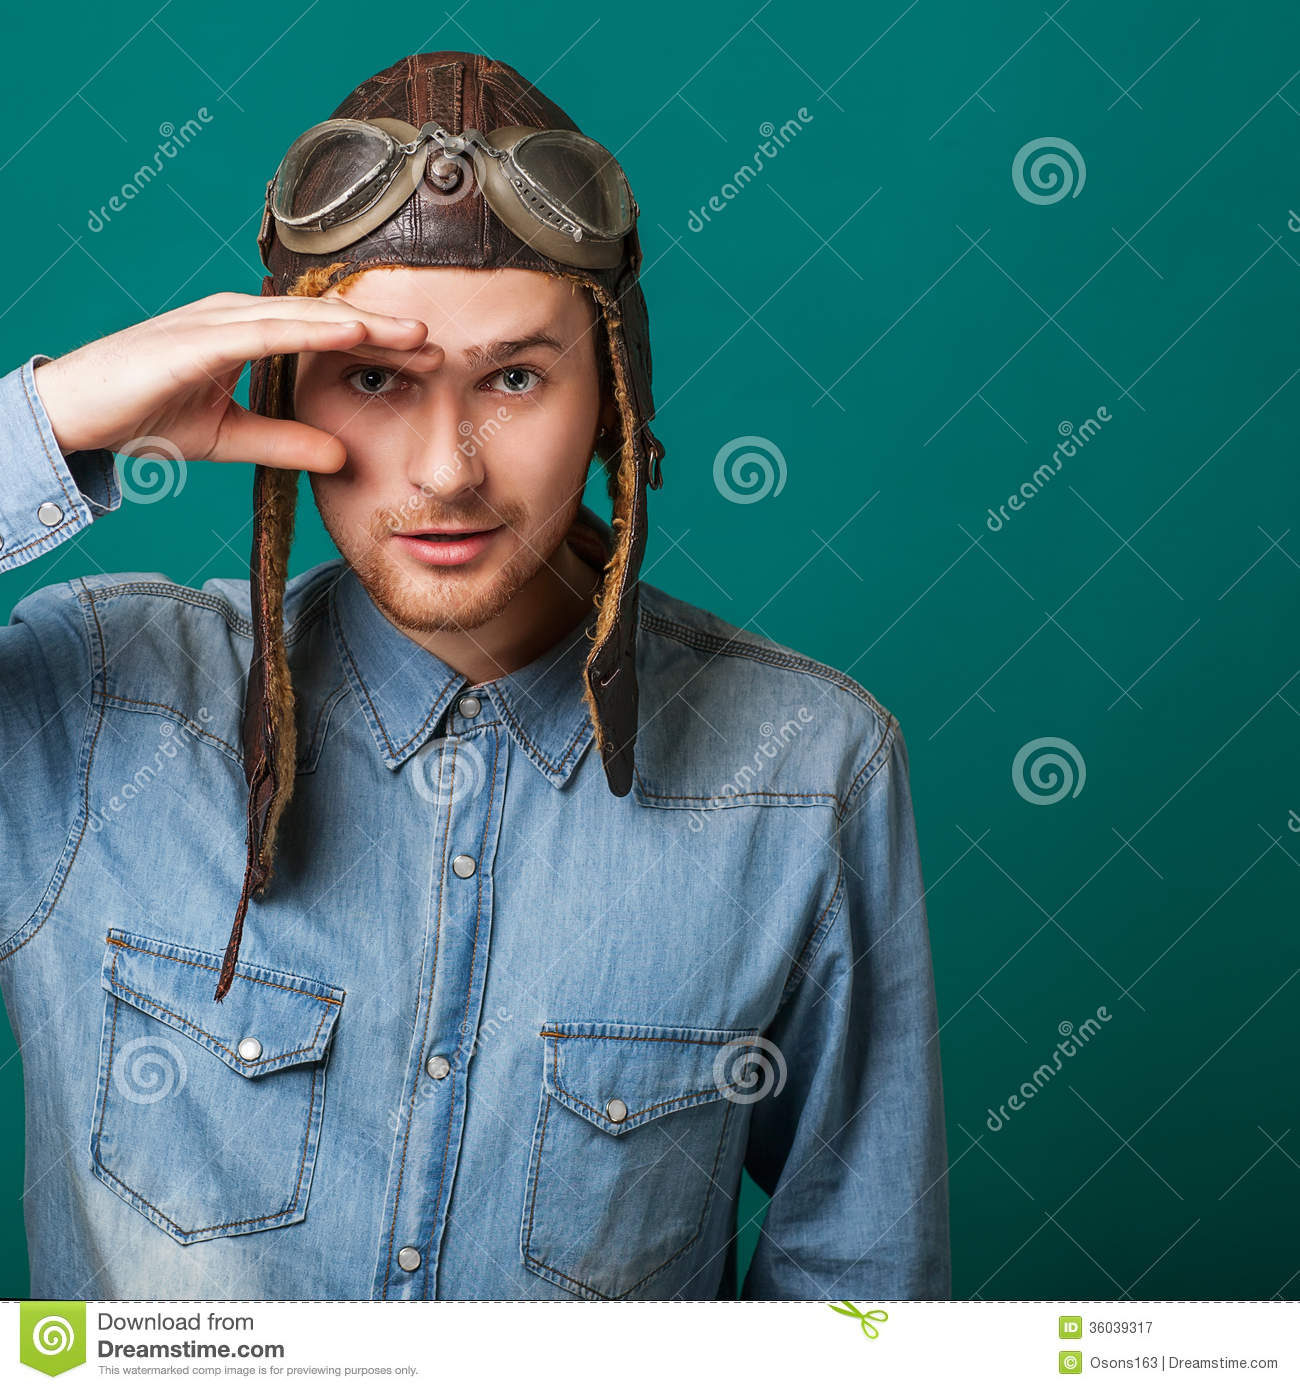helmet: (239, 75, 635, 362)
